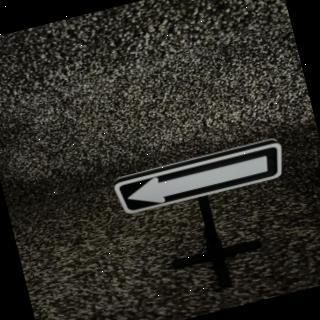sign_oneway_left: (113, 138, 291, 219)
